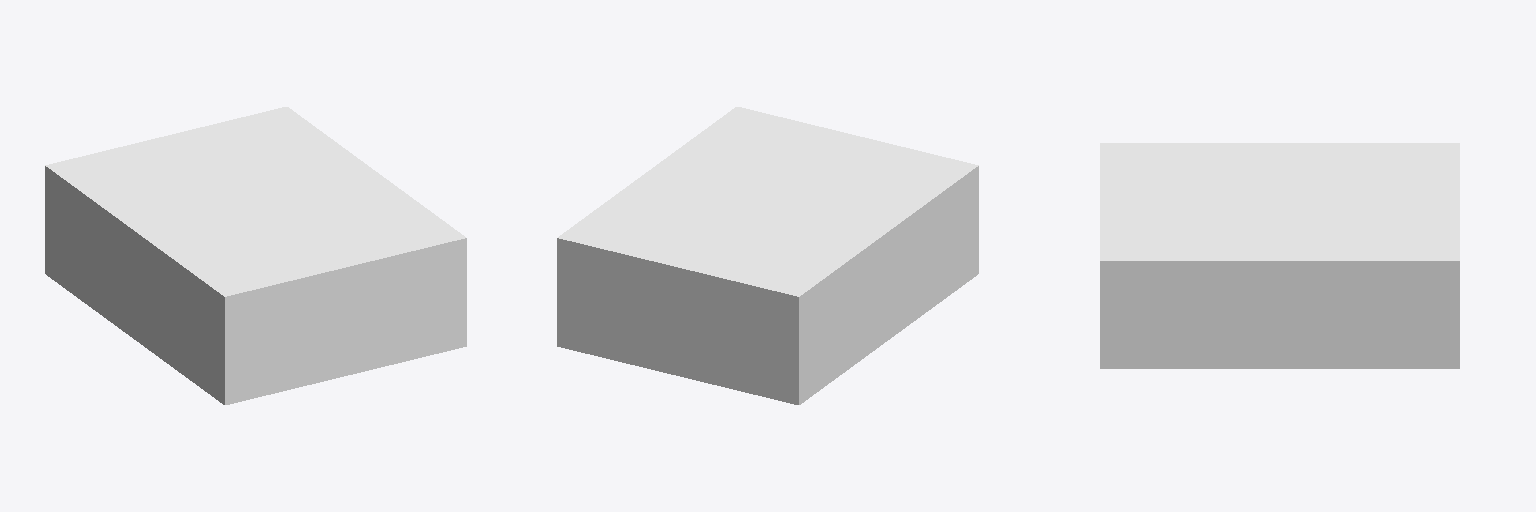
File: Office_Misc_Set-43.obj
The picture shows the model from 3 angles: view 1: azimuth 30°, elevation 25°; view 2: azimuth 150°, elevation 25°; view 3: azimuth 270°, elevation 25°; orthographic projection.
Visible parts, largest first — view 1: object 1; view 2: object 1; view 3: object 1.
Boxes of the visible parts, box(x1,y1,x2,y2) form: object 1: box(45, 107, 466, 404); object 1: box(557, 107, 978, 404); object 1: box(1100, 143, 1459, 368).
Bounding box in the file's own units: 0.7 × 0.3 × 0.9.